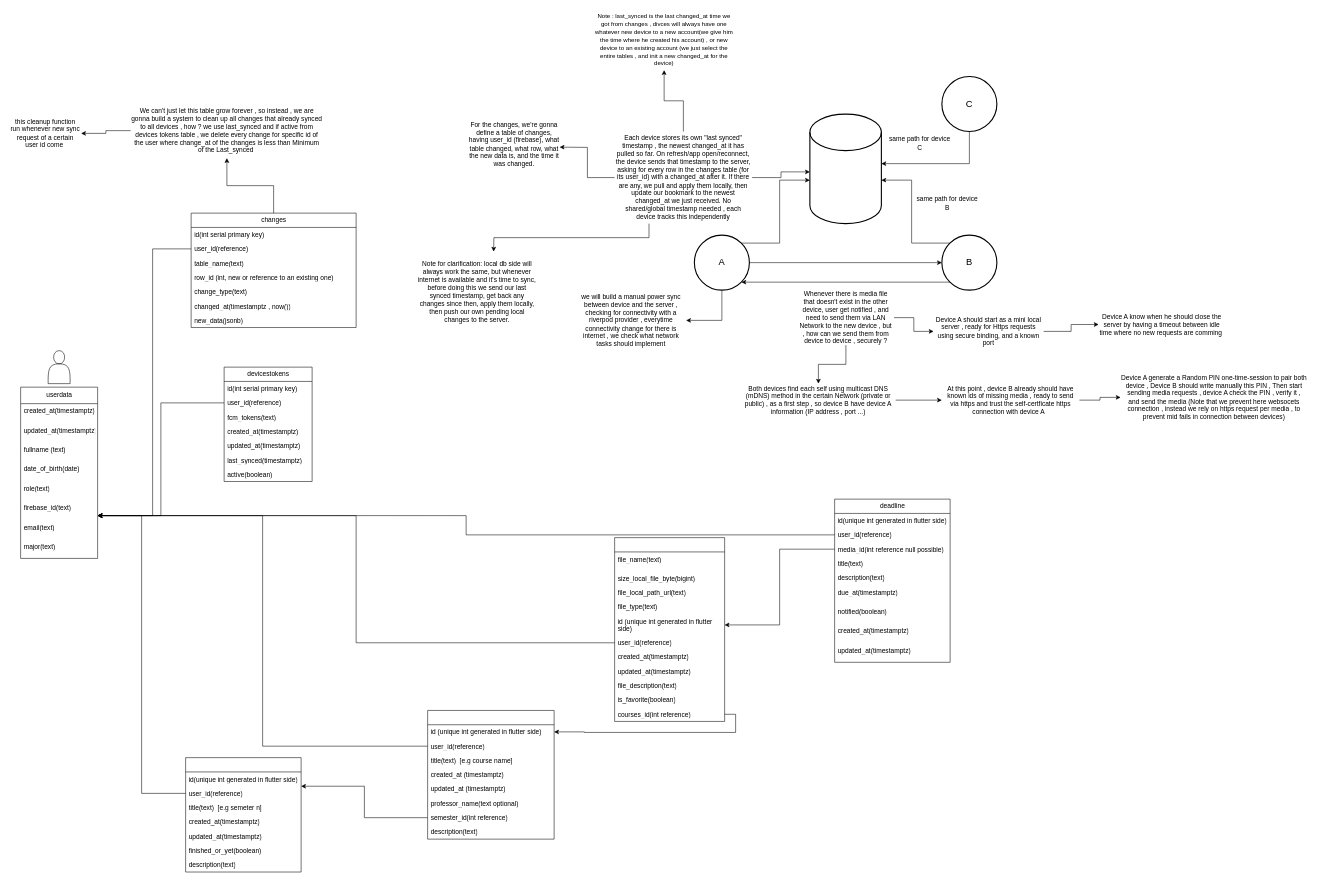
Image size: 1317x883. Some labels were removed from this diagram. Here are the shapes that lost their labels. From the top down, the box of each, then its label:
(809, 113, 882, 224): DB
(614, 537, 725, 721): media
(427, 710, 554, 839): courses
(185, 757, 301, 872): Semester
